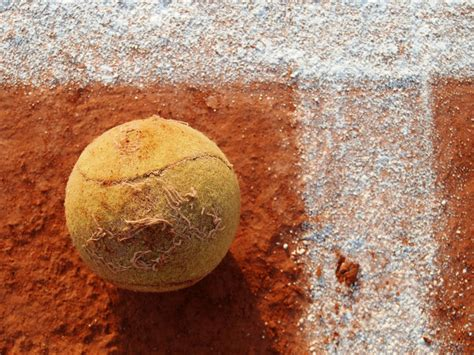tennis_ball: (64, 116, 241, 293)
